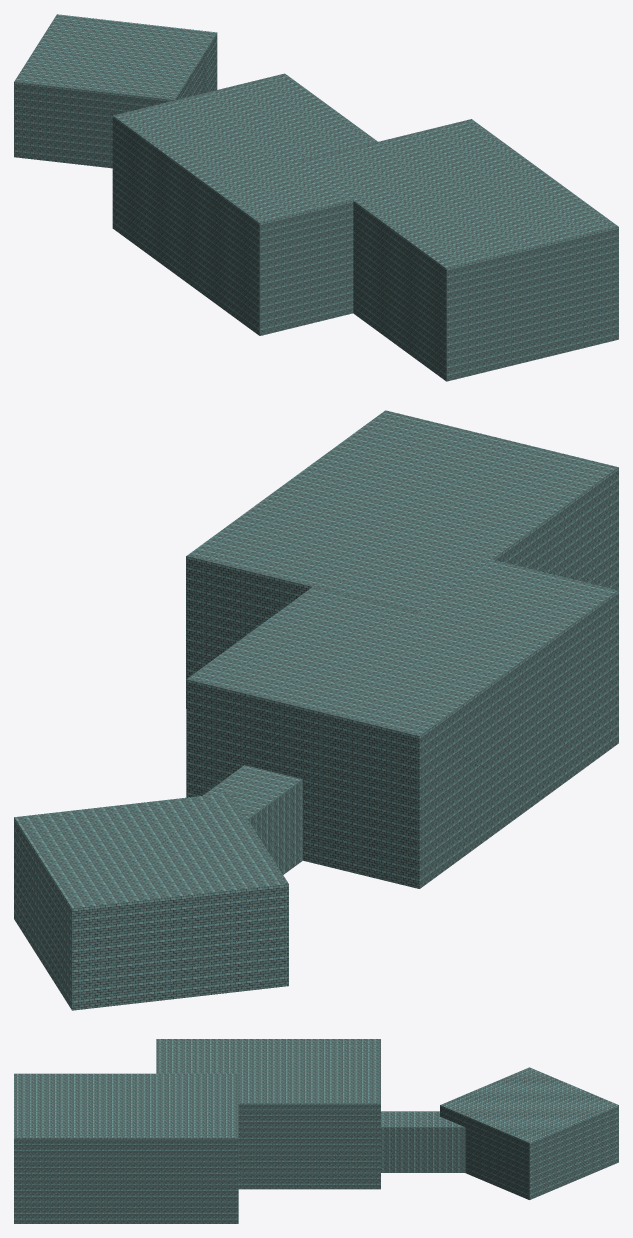
The model's file is level01_01.fbx.
3 views of the same model, one above another, from view 1: azimuth 30°, elevation 25°; view 2: azimuth 150°, elevation 25°; view 3: azimuth 270°, elevation 25° (orthographic). The views are drawn at different scales.
Visible parts, largest first — view 1: Wall (1); view 2: Wall (1); view 3: Wall (1).
Boxes of the visible parts, x1,y1,x2,y2 form: Wall (1): (14, 14, 618, 381); Wall (1): (14, 410, 618, 1010); Wall (1): (14, 1039, 618, 1223).
Size of the model in its own units: 18.57 by 7.5 by 47.82.
